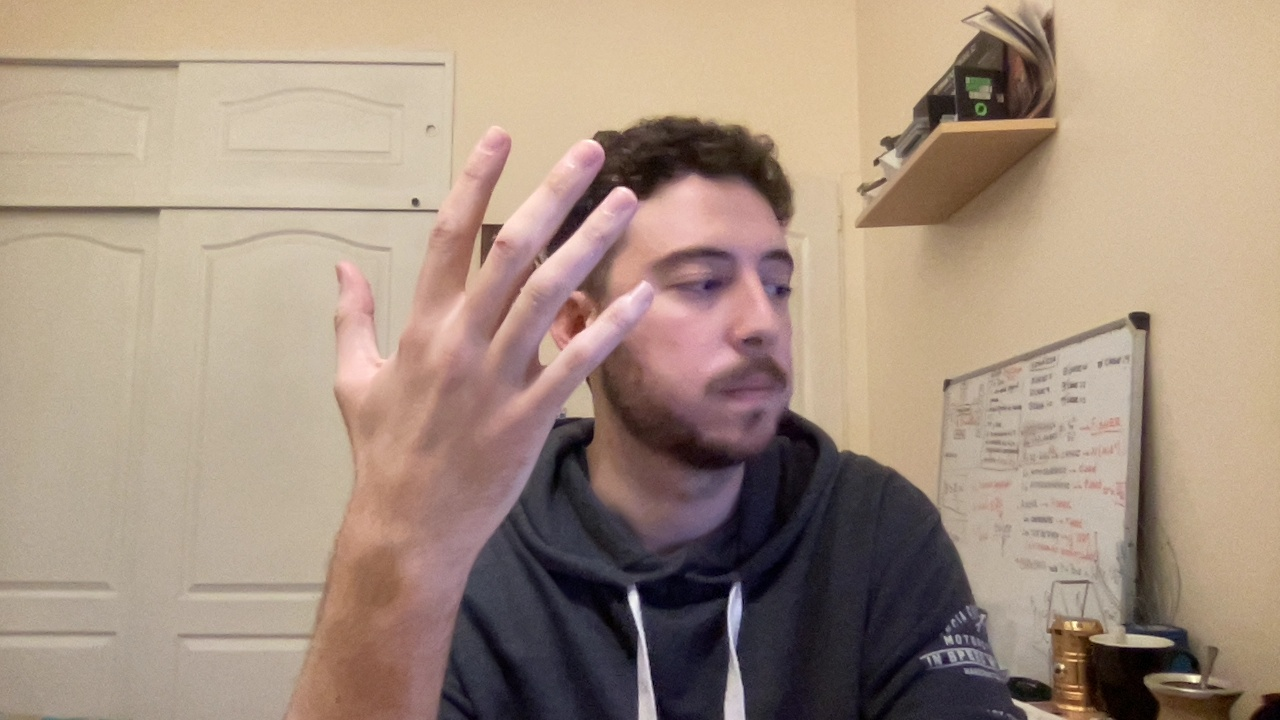abierto: (284, 116, 668, 532)
